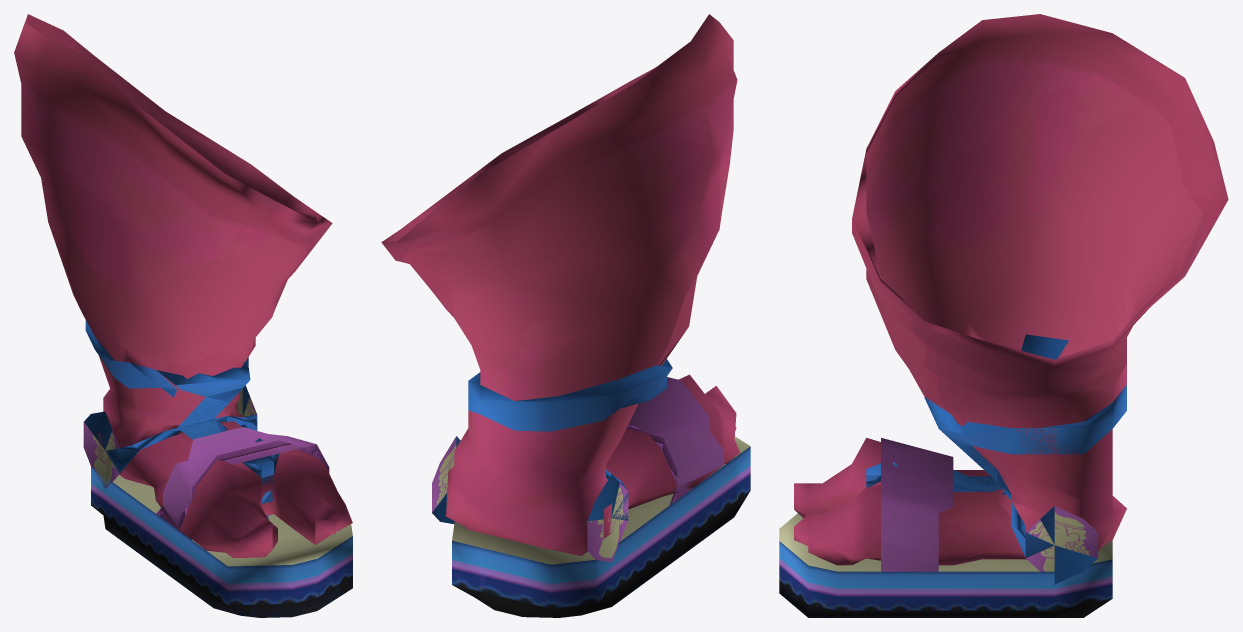
The model's file is PiernaDer_Pena.obj.
3 views of the same model, side by side, from view 1: azimuth 30°, elevation 25°; view 2: azimuth 150°, elevation 25°; view 3: azimuth 270°, elevation 25° (orthographic). The views are drawn at different scales.
Visible parts, largest first — view 1: PiernaDer_Pena; view 2: PiernaDer_Pena; view 3: PiernaDer_Pena.
Boxes of the visible parts, left/top/right/bottom form: PiernaDer_Pena: left=14, top=14, right=352, bottom=617; PiernaDer_Pena: left=381, top=14, right=750, bottom=617; PiernaDer_Pena: left=779, top=14, right=1228, bottom=617.
Bounding box in the file's own units: 0.21 × 0.39 × 0.31.
